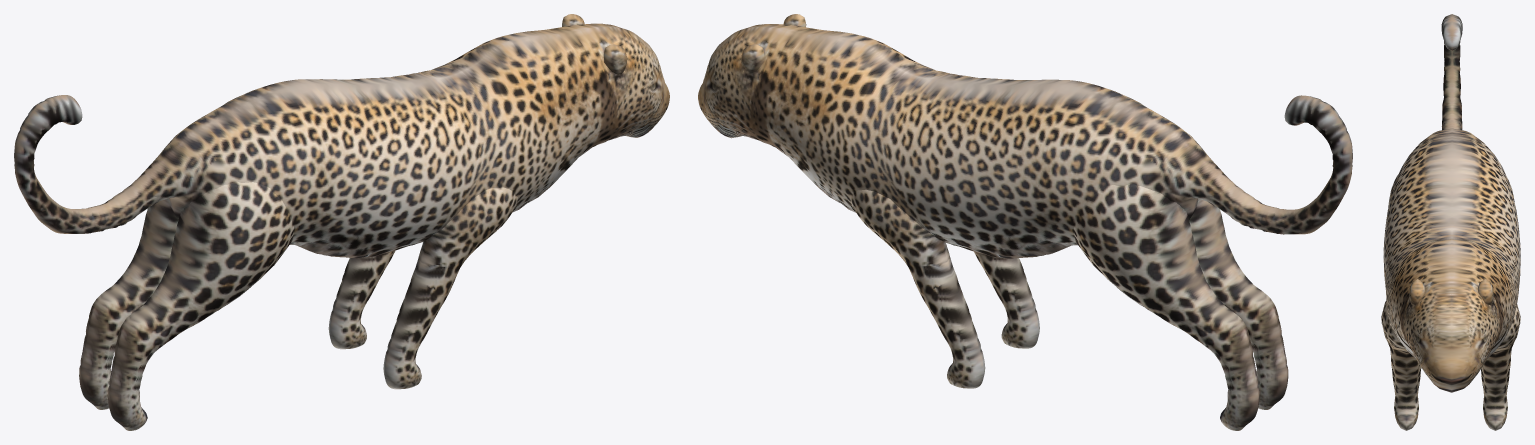
File: jaguar.glb
3 views of the same model, side by side, from view 1: azimuth 30°, elevation 25°; view 2: azimuth 150°, elevation 25°; view 3: azimuth 270°, elevation 25° (orthographic). The views are drawn at different scales.
Parts seen in each view (by area): view 1: mm_frame (52); view 2: mm_frame (52); view 3: mm_frame (52).
Part boxes in pixels (left/top/right/bottom): mm_frame (52): left=14, top=14, right=669, bottom=430; mm_frame (52): left=698, top=14, right=1352, bottom=430; mm_frame (52): left=1381, top=14, right=1520, bottom=430.
Bounding box in the file's own units: 5.53 × 2.84 × 1.26.
Materials: 1 (1 with a texture image).
